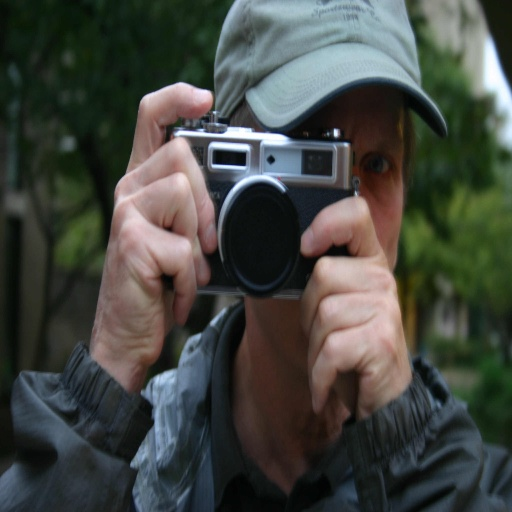hand: (73, 79, 216, 401), (299, 196, 414, 425)
